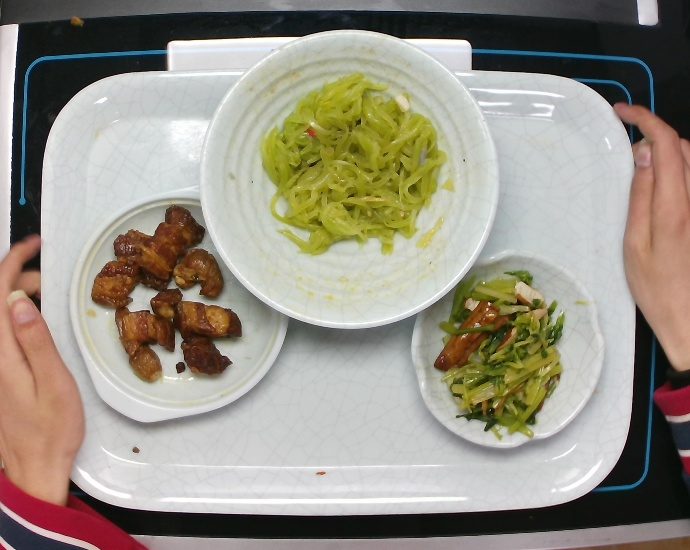JYsf-Ao_Yuan_Wan: (406, 246, 611, 454)
JYsf-Shuang_Er_Pan: (62, 181, 296, 427)
JYsf-Xiao_Tang_Wan: (192, 26, 505, 334)
